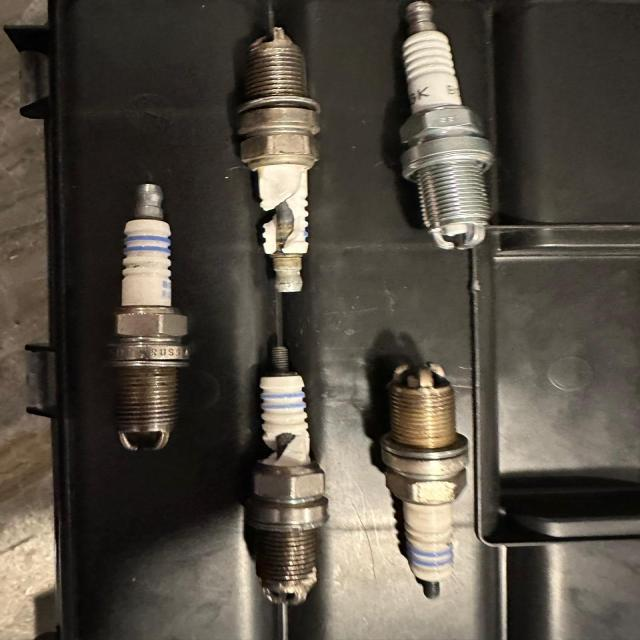damaged_spark-plug: (246, 345, 330, 605), (245, 28, 307, 293)
spark-plug: (392, 2, 492, 245), (386, 360, 471, 597), (115, 184, 184, 445)
